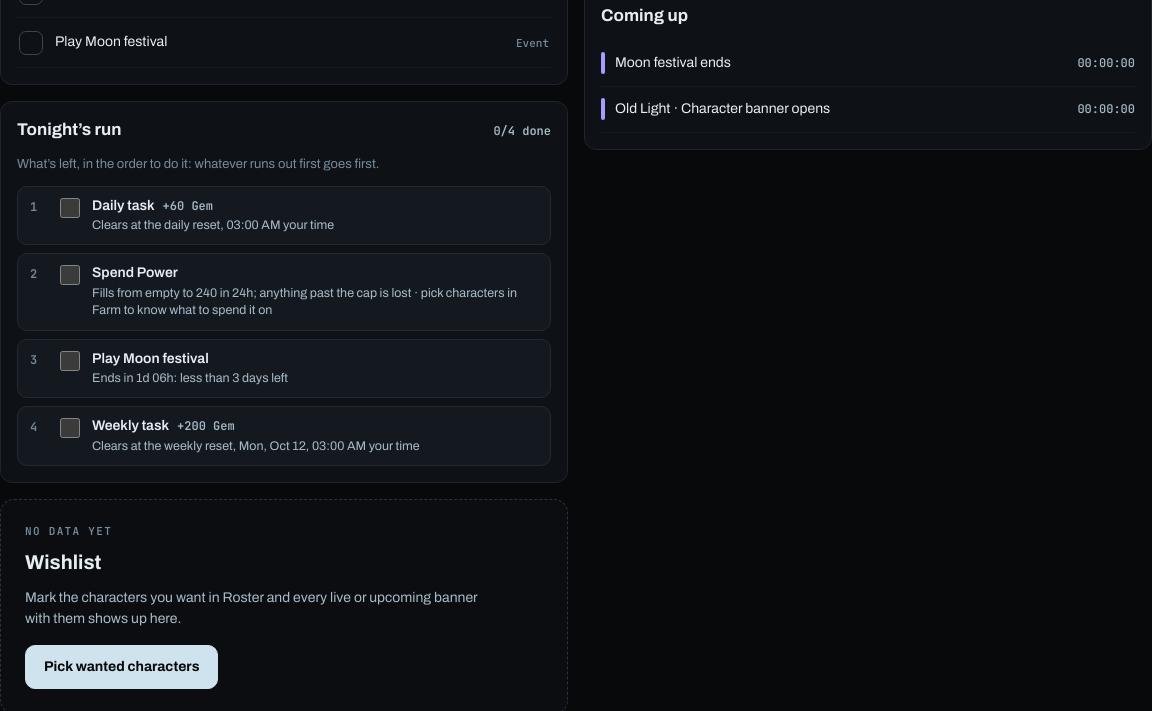
Test: Today › an event task ticked in Tonight’s run shows in Open tasks, can be unticked there, and both counts agree
(page scrolled)
Click the checkbox named "Done: Play Moon festival" at {"x": 70, "y": 361}, box [60,351,80,371]
(page scrolled)
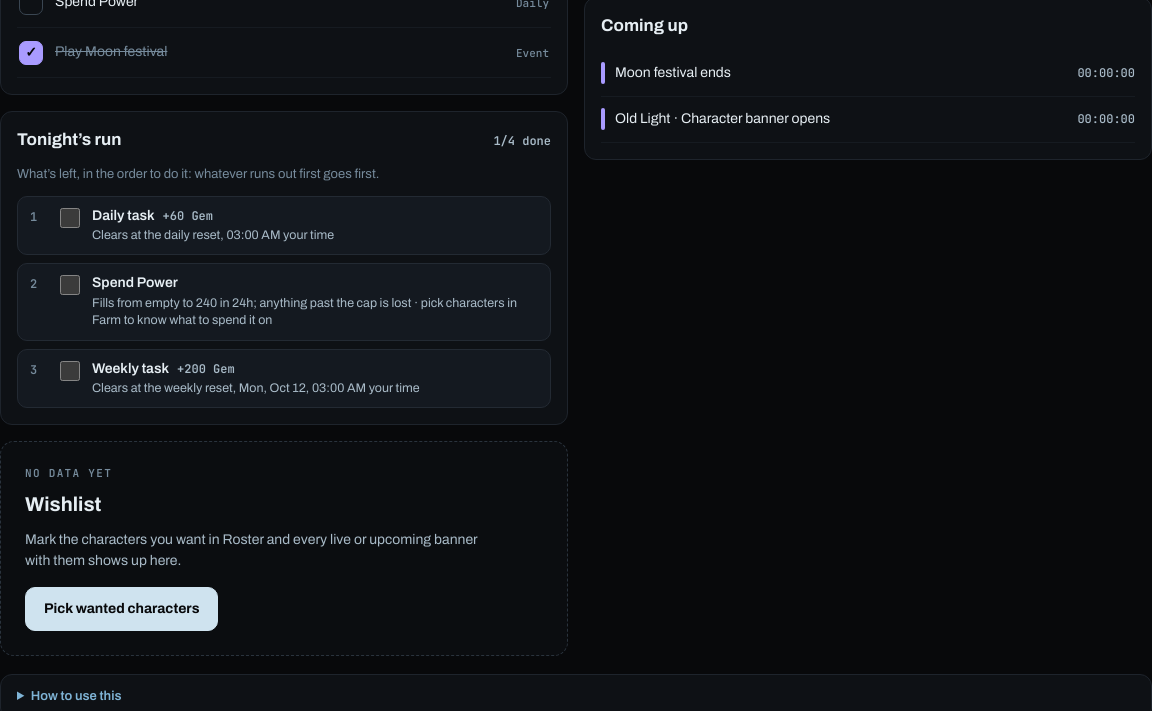
Expected: the text "Event" is shown, [516,46,549,60]
Now the text "1/4 done" is shown, box [493,133,551,149]
Now the checkbox labelled "Play Moon festival" is checked
Click the checkbox labelled "Play Moon festival" at {"x": 111, "y": 52}, box [17,28,551,78]
(page scrolled)
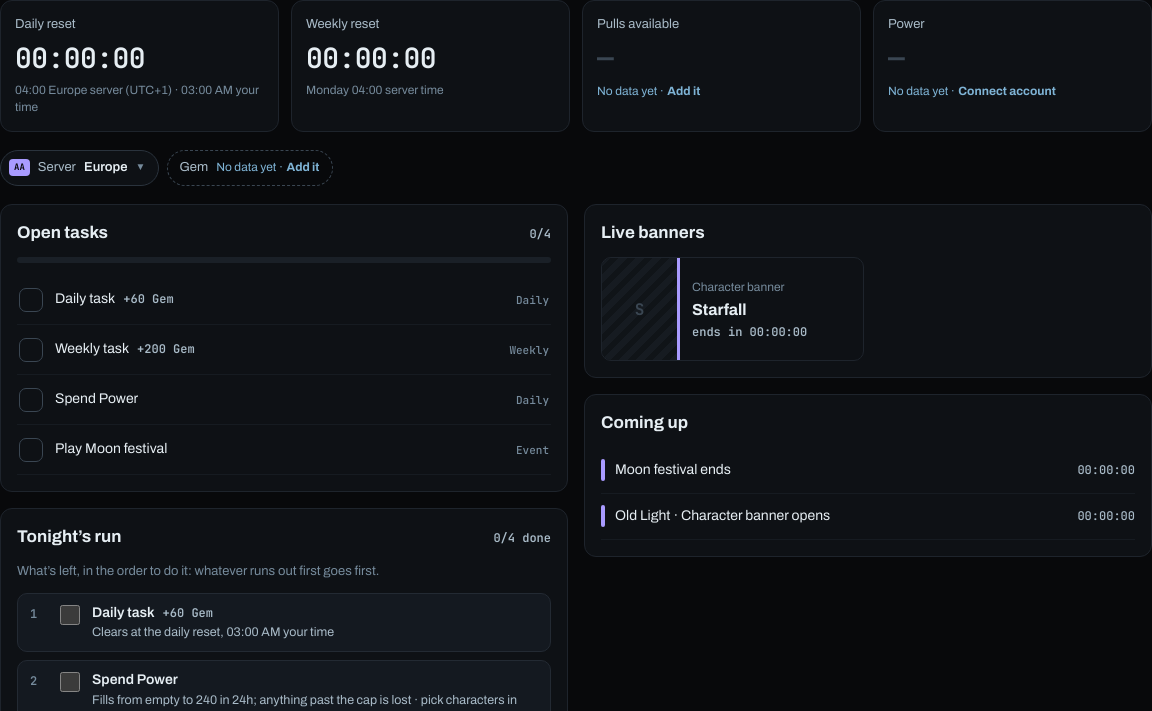
Now the text "0/4" is shown, box [529,226,551,242]
